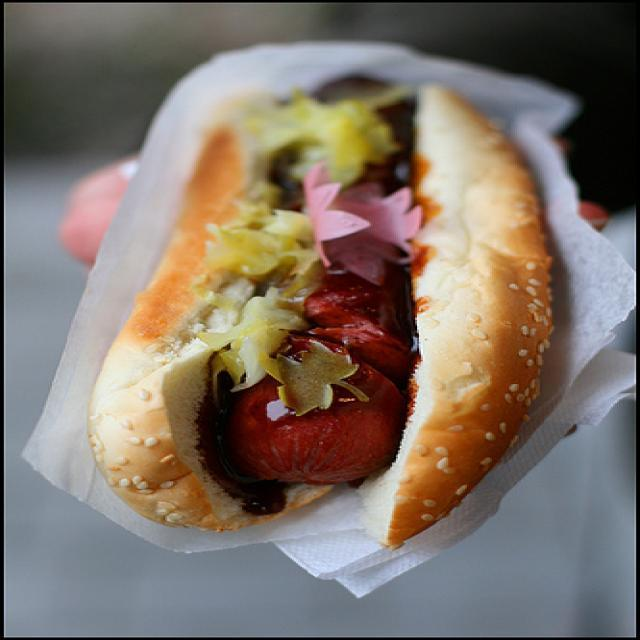Hot Dog: (107, 91, 538, 522)
